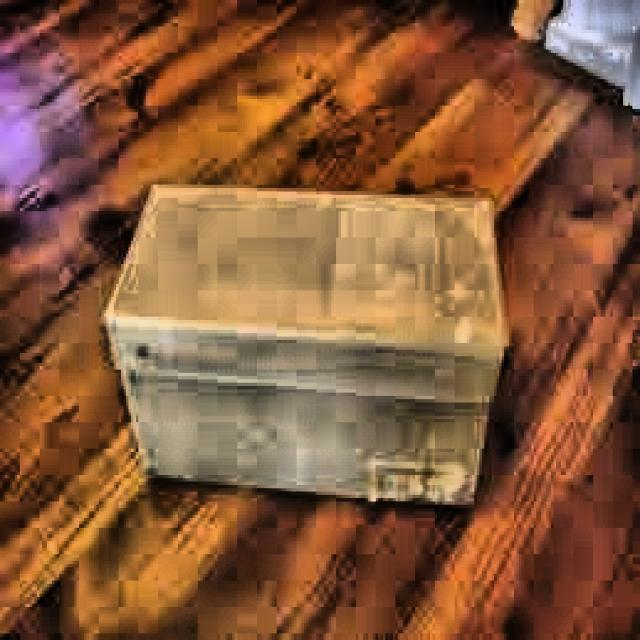cardboard: (99, 178, 512, 508)
